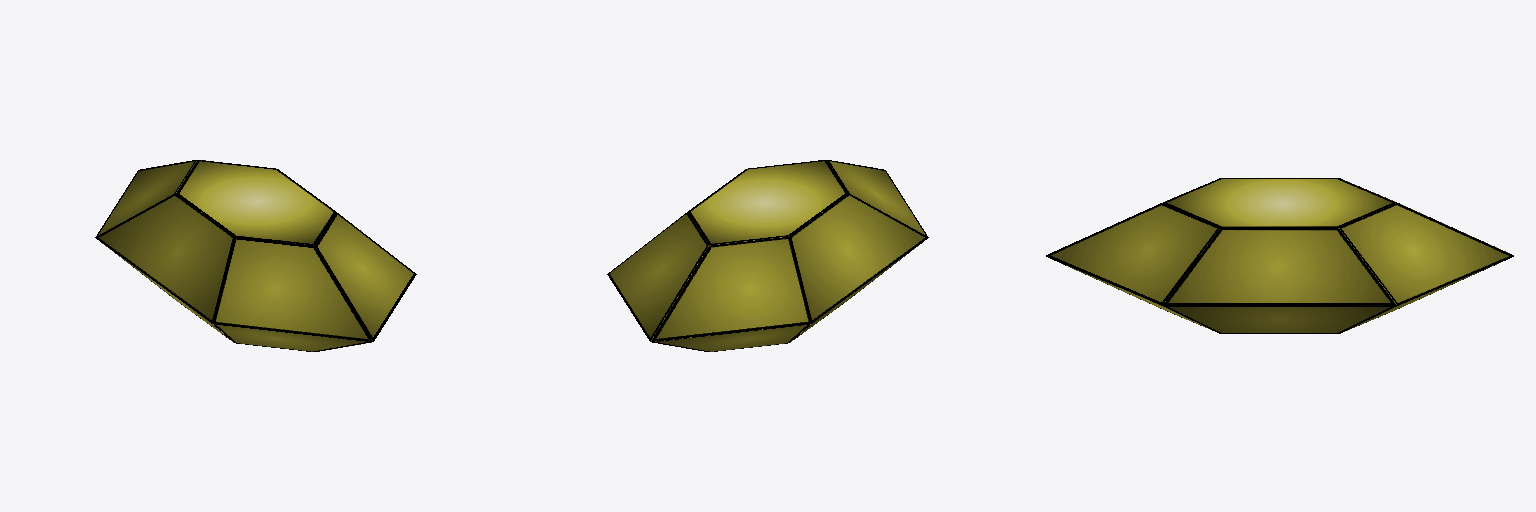
3 renders of one model, left to right at view 1: azimuth 30°, elevation 25°; view 2: azimuth 150°, elevation 25°; view 3: azimuth 270°, elevation 25°, orthographic.
Parts seen in each view (by area): view 1: Cube.001; view 2: Cube.001; view 3: Cube.001.
Boxes of the visible parts, x1=… form: Cube.001: x1=95, y1=160, x2=416, y2=351; Cube.001: x1=607, y1=160, x2=928, y2=351; Cube.001: x1=1046, y1=178, x2=1513, y2=333.
Bounding box in the file's own units: 4 × 2 × 8.
1 materials, 1 textured.